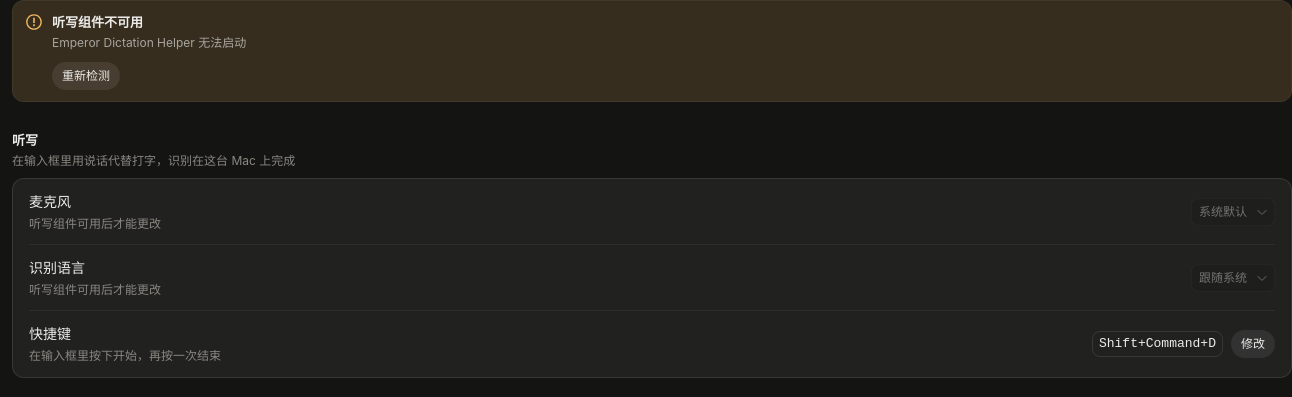
Scenario: VoiceSettingsSection › shows why the helper is unavailable in a notice on top, and checks again
The image size is (1292, 397).
Expected: the text with class "title" reads "听写组件不可用", [52,14,143,30]
Expected: the message with class "ds-notice" shows "Emperor Dictation Helper 无法启动", [52,35,246,50]
Click the button "重新检测".
click(86, 76)  # box [52,62,120,90]
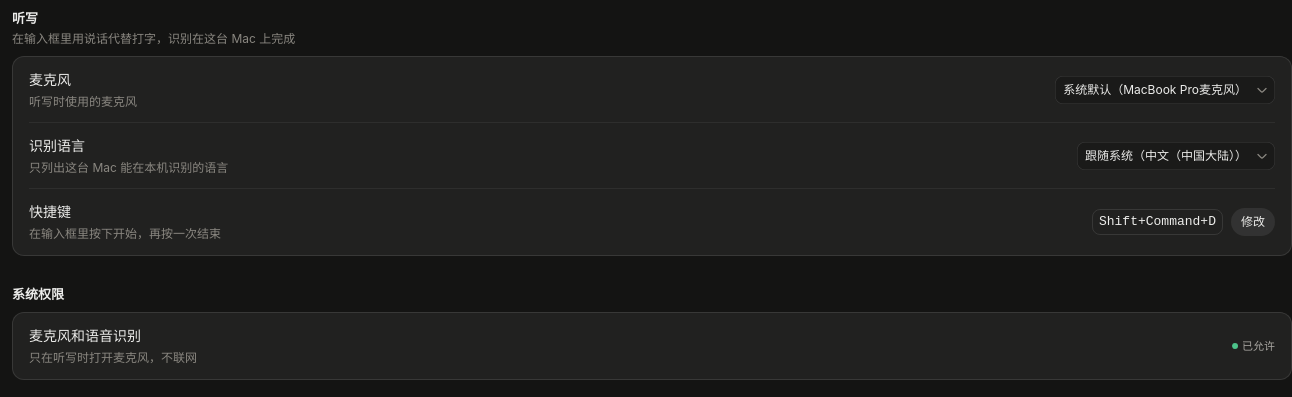
Expected: the message with class "ds-notice" is gone
